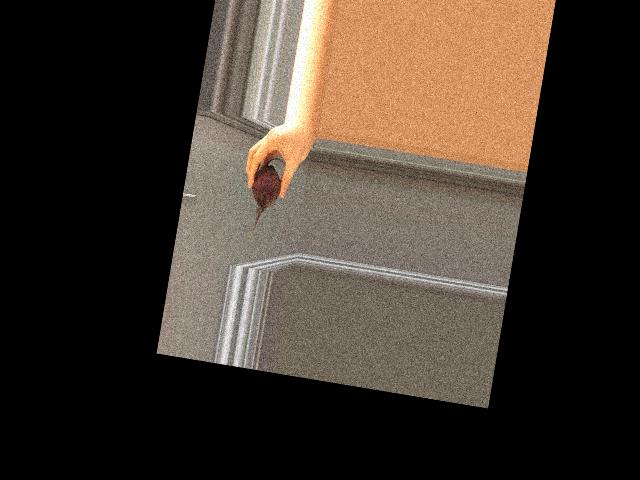beet: (243, 156, 285, 247)
